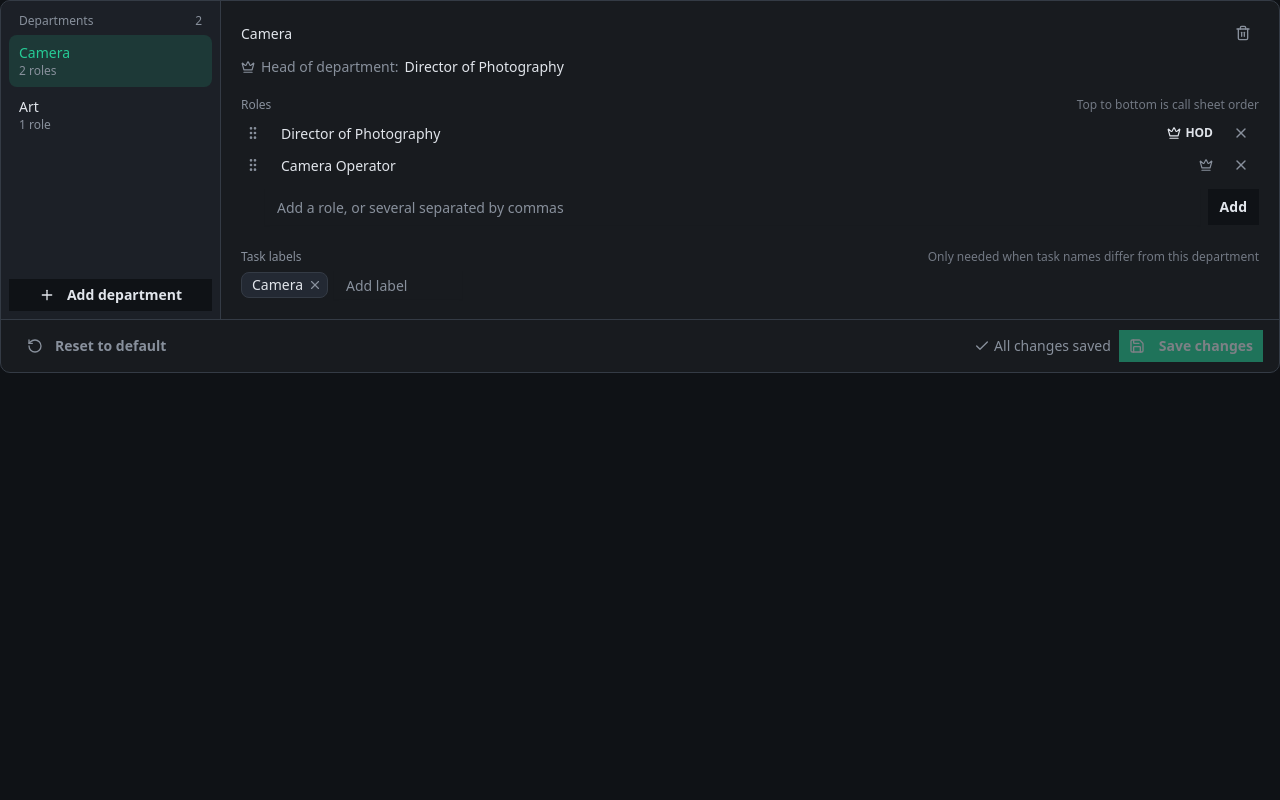
Test: CrewStructureEditor › keeps the department when the delete dialog is cancelled
Expected: the field named "Department name" is shown, [233,13,1219,53]
Click the button named "Delete department" at (1243, 33), box [1227,17,1259,49]
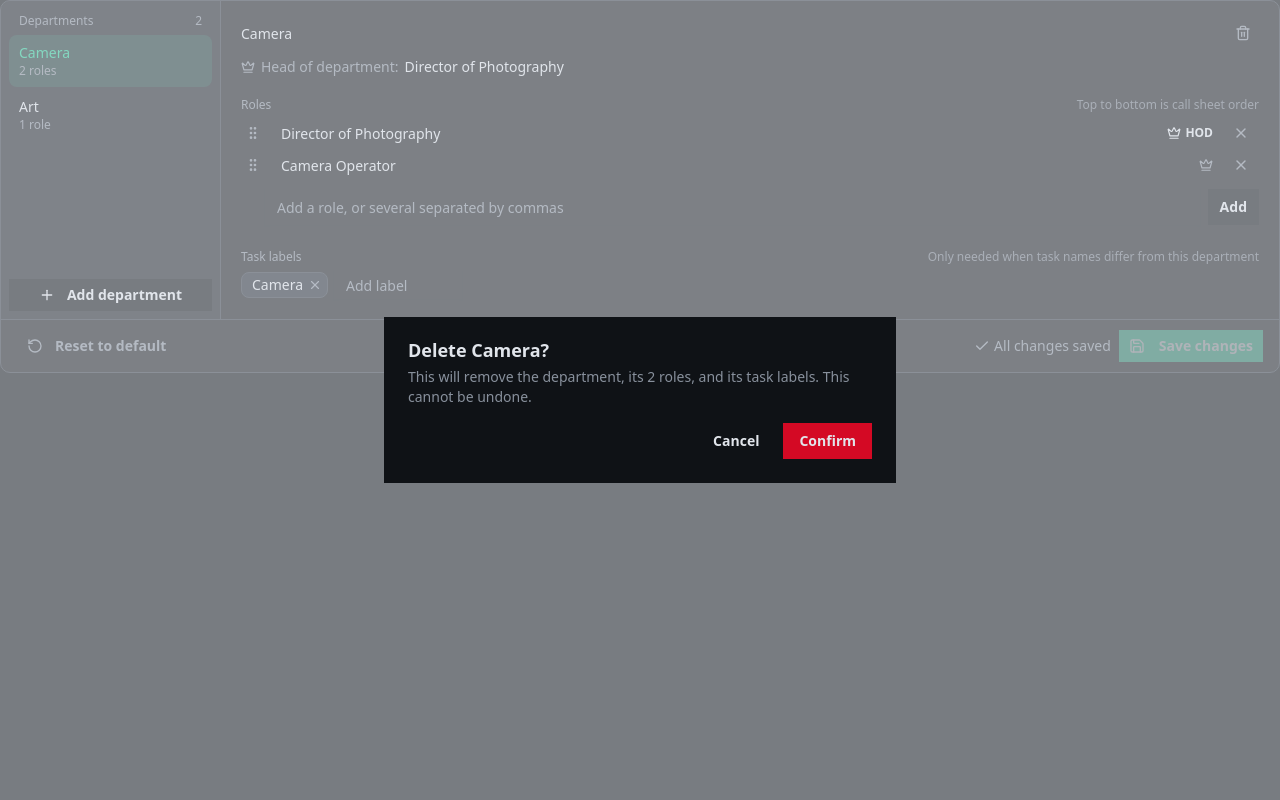
Click the button "Cancel" at (736, 441), box [697,423,775,459]
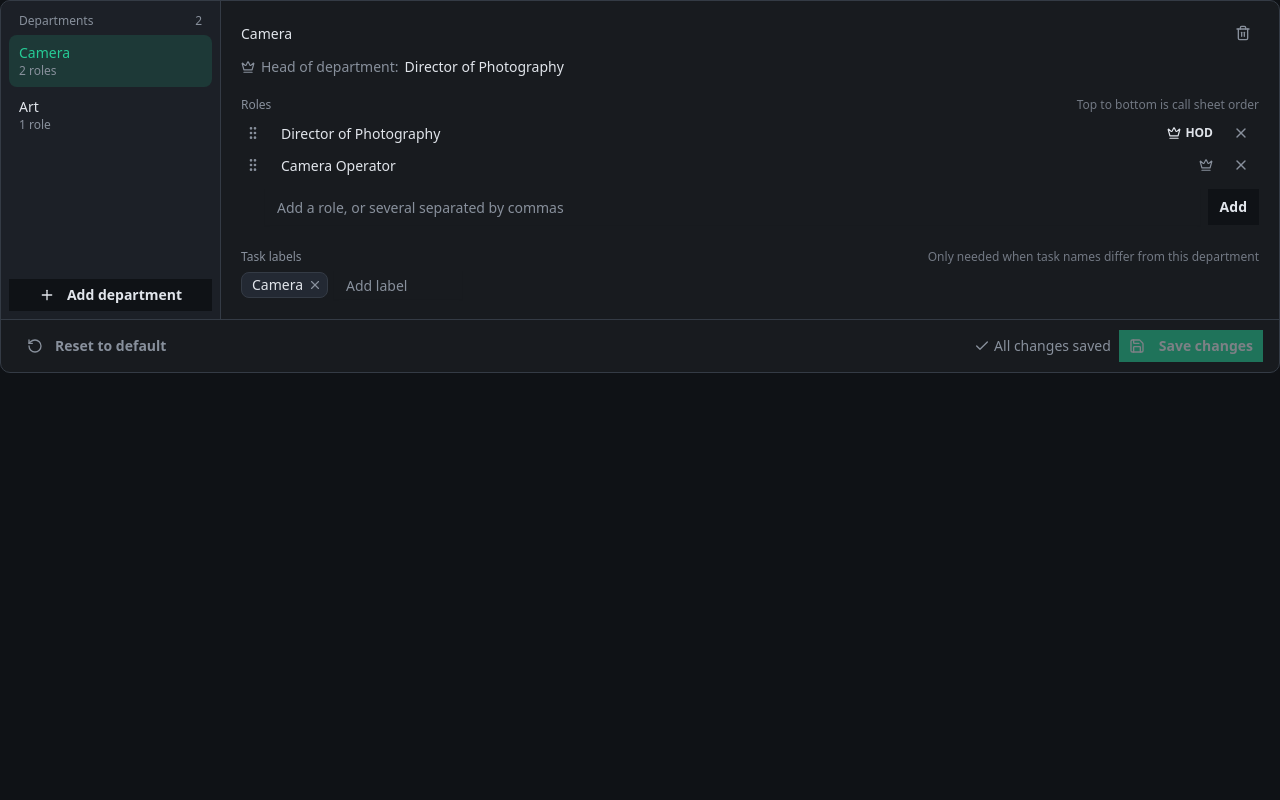
Expected: the button "Camera 2 roles" is shown, [9,35,212,87]
Expected: the dialog is gone
